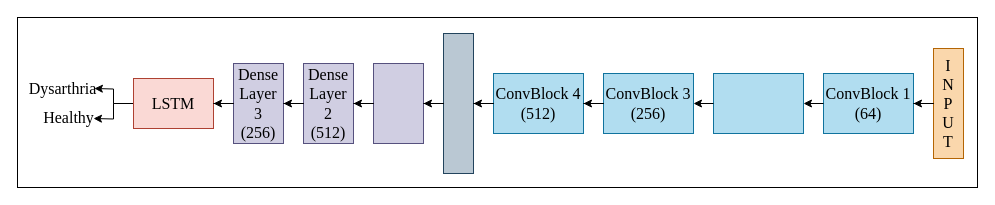
This 995x205 diagram has some shape labels left out. Here are the shapes that lost their labels. From the top down, the centre of each, then its label:
At point 398,103: "Dense Layer 1 (1024)".
At point 458,103: "F L A T T E N".
At point 758,103: "ConvBlock 2 (128)".
